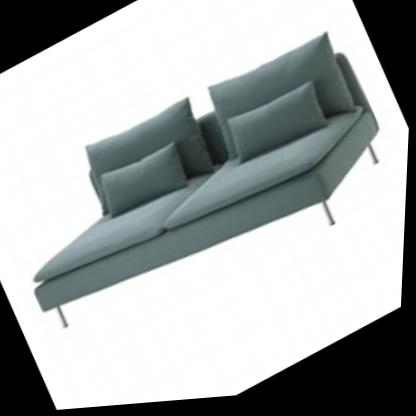Sofa: (0, 1, 415, 396)
